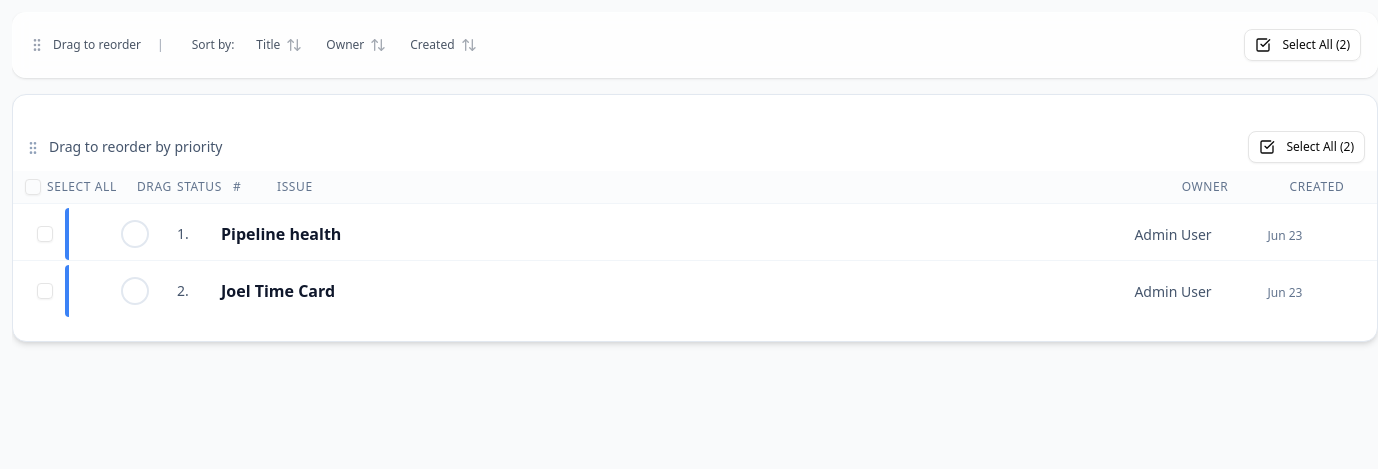
it: IssuesListClean bulk selection smoke test › shows Move to Long-Term toolbar after selecting an issue checkbox
Click the checkbox named "Select issue" in the row of "Pipeline health" at (45, 234), box [37,226,53,242]
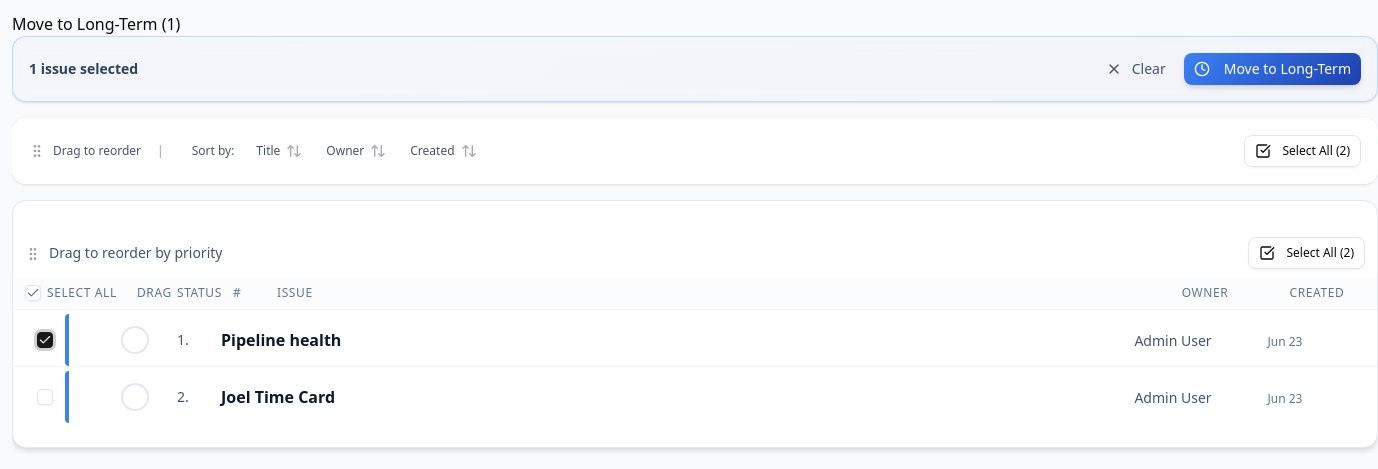
expect the text "1 issue selected" is shown: met, box [29,59,138,79]
expect the button "Move to Long-Term" is shown: met, box [1184,53,1361,85]
expect the text with test id "page-toolbar" reads "Move to Long-Term (1)": met, box [12,13,180,35]
